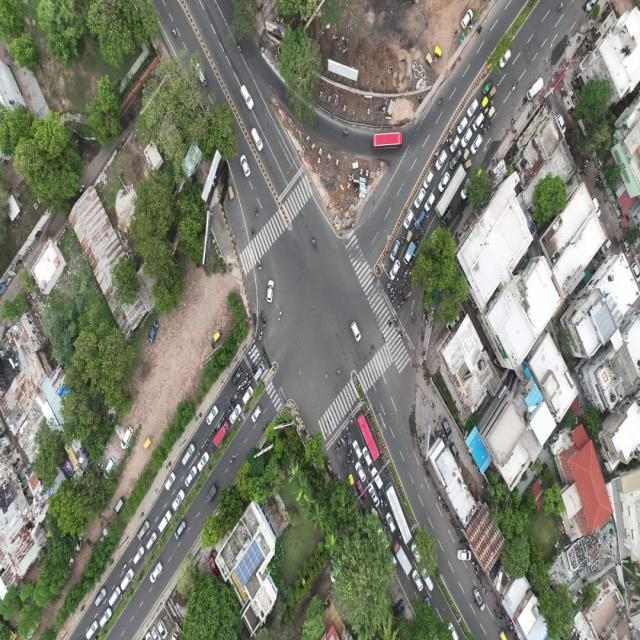3W: (204, 484, 218, 505), (433, 42, 442, 58), (425, 51, 433, 67), (226, 186, 234, 201), (143, 437, 152, 450), (487, 105, 496, 118), (213, 331, 222, 343), (488, 86, 497, 98), (463, 147, 469, 161), (349, 474, 354, 488)
Bus: (436, 164, 467, 221), (381, 482, 410, 540), (358, 411, 379, 458), (373, 127, 402, 153)
Cars: (526, 77, 544, 102), (156, 507, 172, 533), (240, 84, 256, 110), (472, 587, 486, 611), (120, 425, 134, 448), (499, 49, 513, 72), (98, 607, 111, 631), (471, 133, 484, 156), (174, 517, 187, 540), (411, 573, 424, 596), (368, 462, 380, 486), (121, 568, 134, 590), (414, 209, 427, 231), (150, 562, 163, 584), (104, 452, 115, 477), (227, 403, 241, 422), (402, 208, 414, 230), (184, 465, 196, 487), (108, 586, 120, 608), (182, 444, 194, 466), (252, 127, 263, 150), (239, 154, 250, 177), (94, 586, 107, 605), (414, 186, 425, 208), (467, 95, 478, 117), (197, 450, 209, 470), (461, 10, 473, 30), (266, 279, 276, 303), (388, 240, 400, 260), (252, 404, 264, 424), (86, 620, 98, 640), (355, 461, 366, 482), (410, 538, 421, 559), (146, 320, 156, 343), (351, 320, 361, 343), (424, 193, 436, 212), (113, 496, 124, 516), (423, 168, 434, 188), (132, 545, 143, 565), (252, 362, 264, 380), (241, 387, 253, 405), (230, 366, 242, 384), (457, 547, 471, 562), (449, 134, 458, 156), (174, 488, 185, 505), (458, 115, 468, 133), (355, 484, 366, 499), (138, 520, 148, 536), (149, 530, 158, 547), (165, 472, 175, 486)
LCV: (483, 78, 492, 94)
M2W: (256, 260, 263, 274), (171, 26, 179, 38), (202, 438, 210, 449), (411, 314, 417, 327), (512, 79, 518, 92), (558, 2, 564, 15), (477, 22, 482, 37), (347, 443, 353, 455), (311, 236, 317, 248), (258, 328, 263, 342), (254, 205, 259, 219), (251, 227, 256, 241), (343, 127, 350, 137), (401, 263, 407, 274), (488, 121, 494, 132), (230, 393, 236, 403), (387, 284, 393, 294), (378, 451, 384, 461), (442, 137, 447, 149), (236, 42, 242, 52), (349, 416, 354, 427), (244, 375, 250, 384), (382, 462, 388, 471), (230, 454, 236, 463), (260, 309, 264, 322), (342, 430, 347, 440), (481, 122, 486, 132), (335, 443, 339, 453), (343, 460, 347, 470), (400, 293, 405, 301), (431, 158, 435, 168), (449, 128, 454, 136), (407, 290, 411, 299), (236, 394, 240, 402), (392, 296, 396, 304), (257, 353, 262, 359), (490, 99, 495, 104)
MAV: (400, 238, 414, 261)
Truck: (391, 544, 410, 579), (211, 420, 228, 448)
